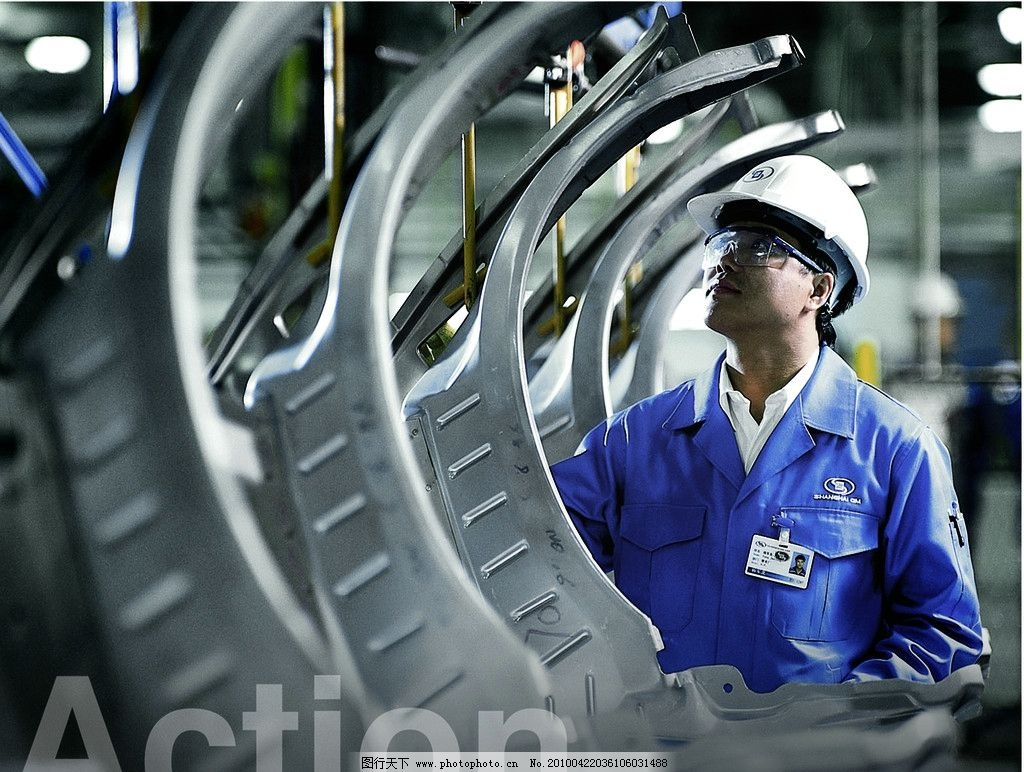white: (685, 157, 877, 352)
